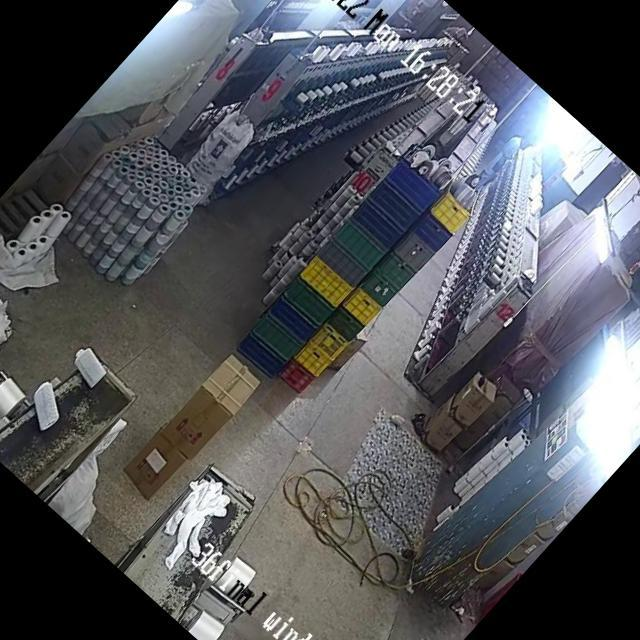person: (474, 129, 530, 187)
